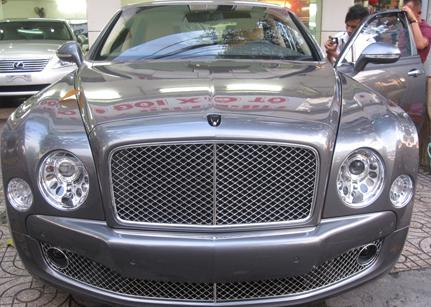front_view: (0, 127, 424, 307)
headlight: (2, 146, 96, 217)
